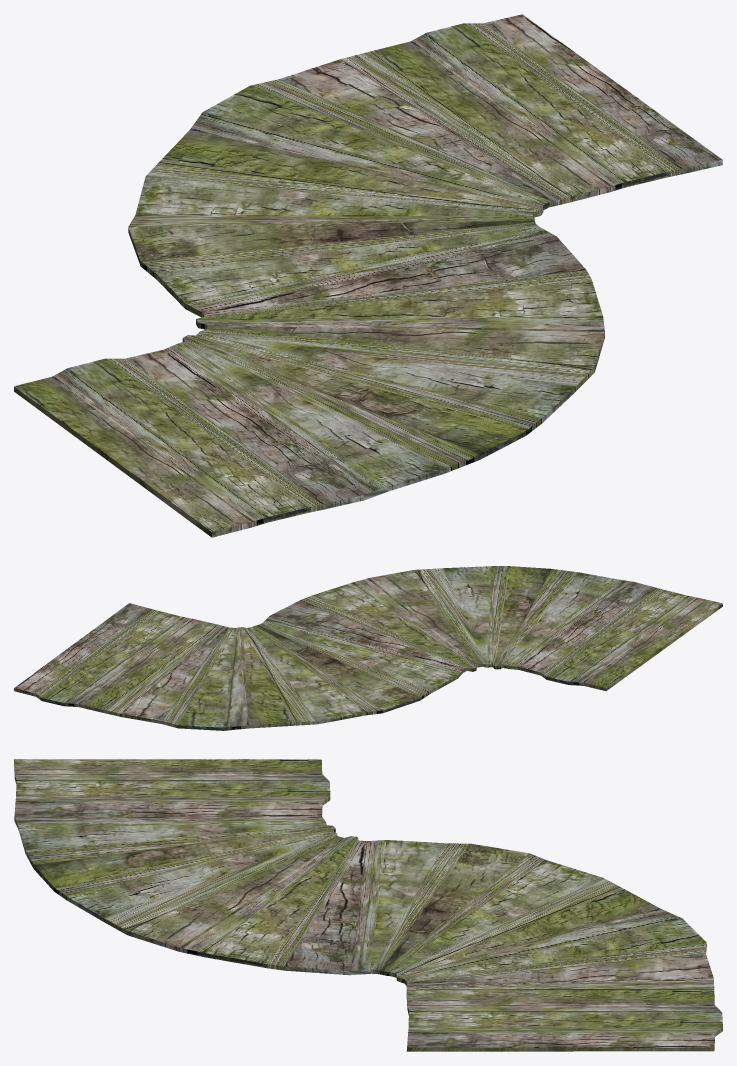
The model's file is RAMP.fbx.
3 renders of one model, top to bottom at view 1: azimuth 30°, elevation 25°; view 2: azimuth 150°, elevation 25°; view 3: azimuth 270°, elevation 25°, orthographic. The views are drawn at different scales.
Visible parts, largest first — view 1: ramp; view 2: ramp; view 3: ramp.
Boxes of the visible parts, x1,y1,x2,y2 form: ramp: [14, 14, 722, 537]; ramp: [14, 566, 722, 730]; ramp: [14, 759, 722, 1051].
Bounding box in the file's own units: 443 × 3 × 460.
